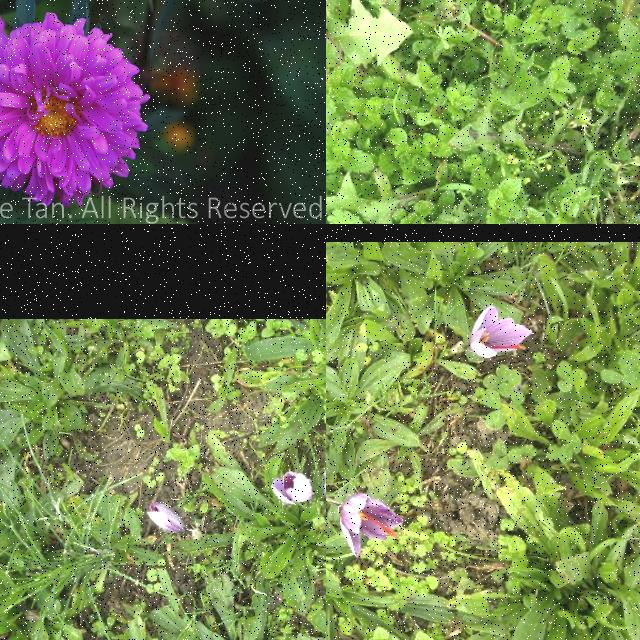flower: (338, 492, 404, 560), (471, 306, 533, 359), (272, 472, 314, 506), (148, 502, 188, 534)
